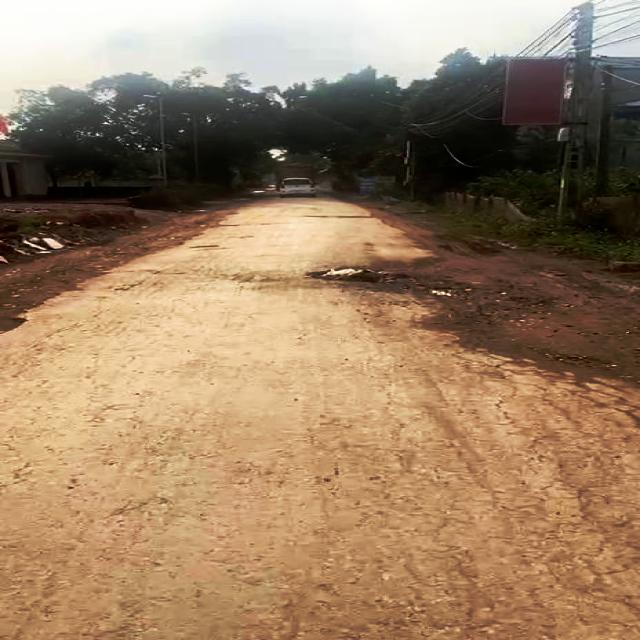pothole: (309, 265, 414, 285)
